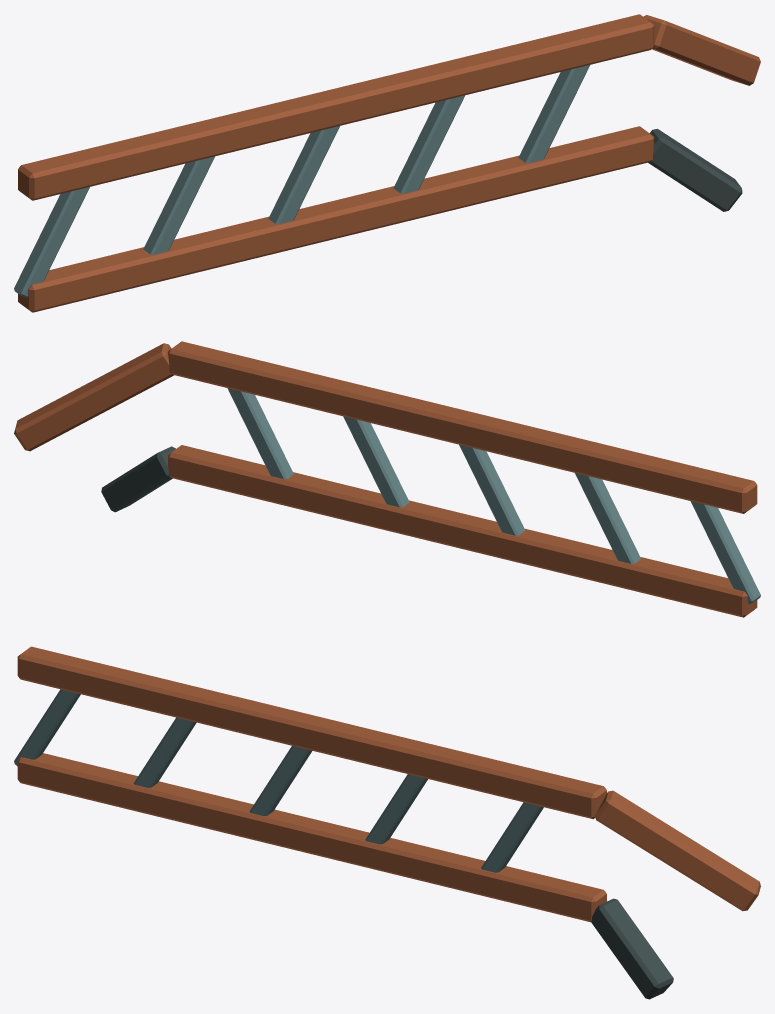
The model's file is Truss_Broken.glb.
3 renders of one model, top to bottom at view 1: azimuth 30°, elevation 25°; view 2: azimuth 150°, elevation 25°; view 3: azimuth 330°, elevation 25°, orthographic. The views are drawn at different scales.
Visible parts, largest first — view 1: Truss_Broken; view 2: Truss_Broken; view 3: Truss_Broken.
Boxes of the visible parts, left/top/right/bottom form: Truss_Broken: left=14, top=14, right=760, bottom=312; Truss_Broken: left=14, top=341, right=760, bottom=617; Truss_Broken: left=14, top=646, right=760, bottom=999.
Bounding box in the file's own units: 4.69 × 1.16 × 0.6117.
